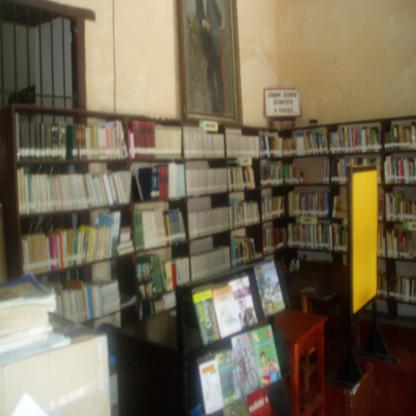book: (22, 210, 125, 266), (48, 274, 136, 326), (15, 169, 132, 208), (233, 219, 349, 257), (128, 204, 190, 246), (185, 128, 258, 158), (258, 130, 328, 160), (262, 194, 330, 222), (327, 122, 382, 156), (251, 326, 280, 388), (192, 249, 232, 291), (182, 161, 229, 196), (260, 164, 330, 187), (190, 210, 232, 242), (384, 148, 416, 188), (384, 188, 416, 226), (385, 225, 416, 263), (390, 274, 416, 306), (234, 202, 262, 230), (231, 162, 256, 191), (384, 121, 416, 143), (43, 122, 54, 162), (77, 124, 88, 164), (69, 124, 80, 162), (130, 119, 139, 159), (36, 123, 44, 165), (17, 115, 24, 162), (89, 124, 97, 162), (96, 124, 104, 162), (117, 122, 125, 160), (59, 122, 67, 158), (30, 119, 36, 166), (52, 121, 58, 159), (111, 122, 117, 160), (151, 120, 156, 164), (23, 120, 28, 162), (105, 124, 111, 158), (128, 130, 135, 158), (157, 122, 161, 164), (142, 118, 146, 158), (168, 122, 172, 160), (86, 124, 90, 160), (162, 124, 166, 160), (173, 123, 177, 159), (178, 124, 182, 157), (139, 118, 142, 158), (148, 118, 150, 161)
